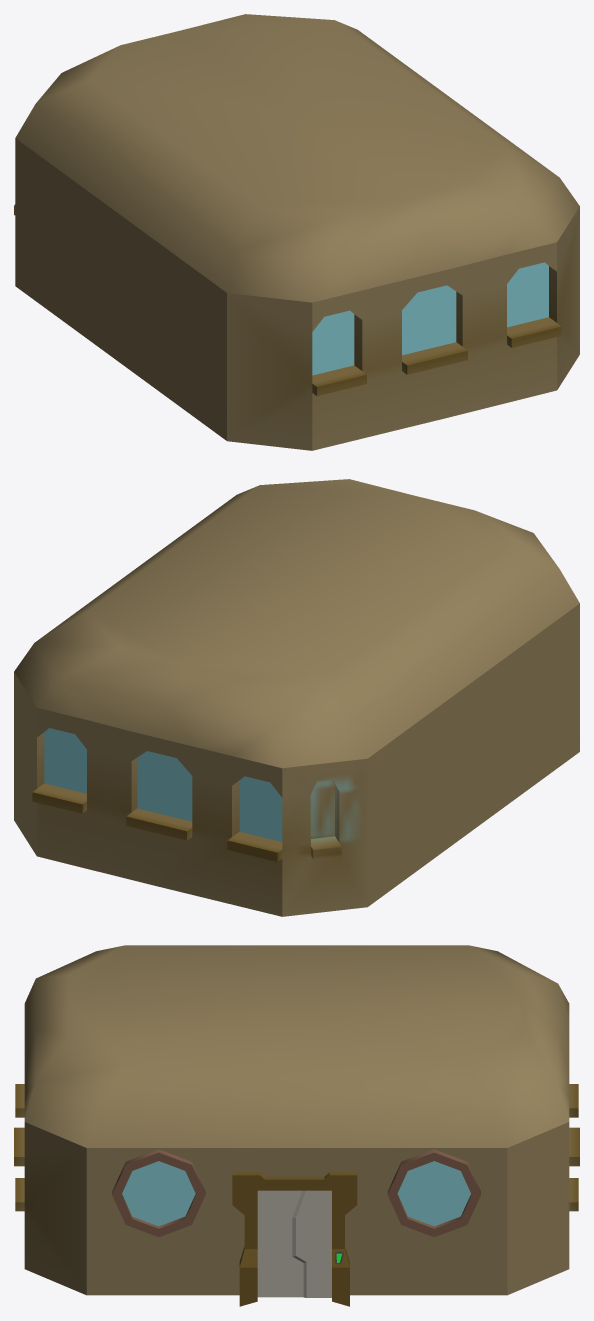
The model's file is SouthEast_House_06.fbx.
3 renders of one model, top to bottom at view 1: azimuth 30°, elevation 25°; view 2: azimuth 150°, elevation 25°; view 3: azimuth 270°, elevation 25°, orthographic.
Parts seen in each view (by area): view 1: SouthEast_House_06; view 2: SouthEast_House_06; view 3: SouthEast_House_06.
Part boxes in pixels (<box>): SouthEast_House_06: <box>14,14,579,450</box>; SouthEast_House_06: <box>14,479,579,916</box>; SouthEast_House_06: <box>14,945,579,1306</box>.
Bounding box in the file's own units: 18.21 × 10.12 × 24.61.
2 materials, 2 textured.
